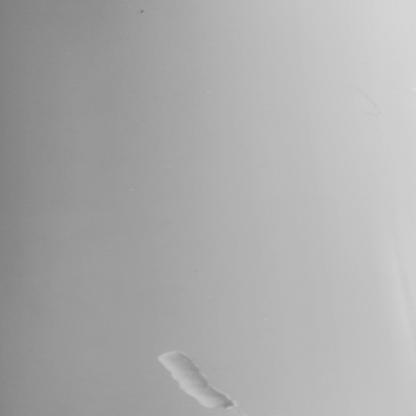sunshang: (154, 351, 238, 409)
